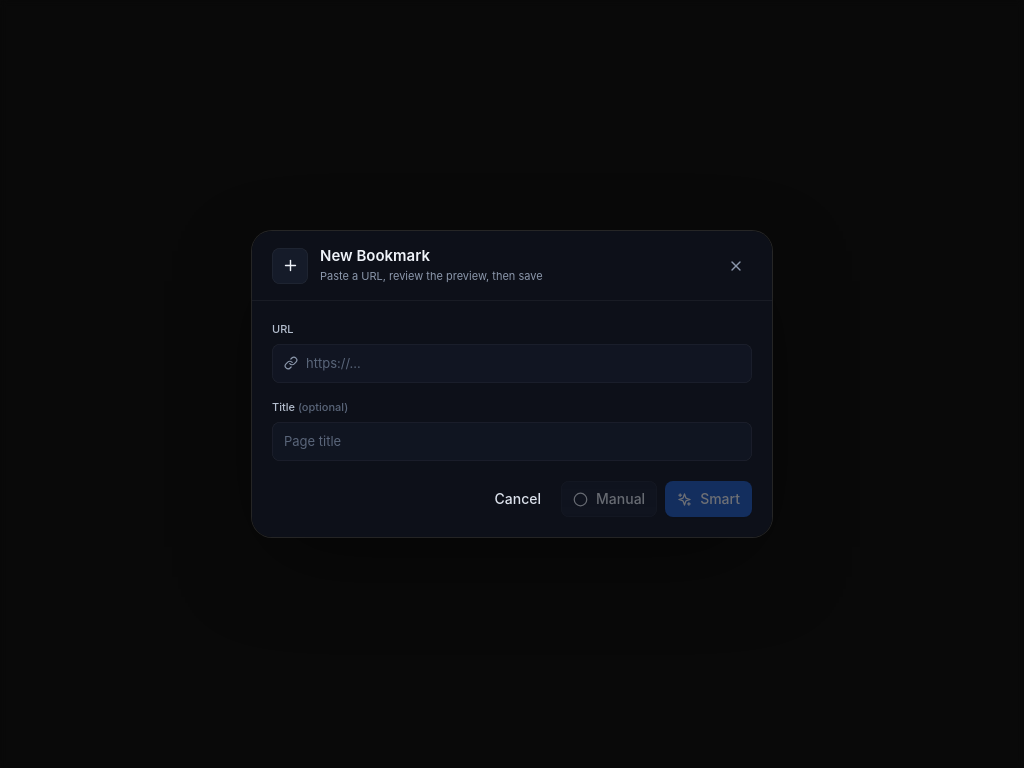
NewBookmarkDialog Manual 与 Smart 入口 › Manual 遇到重复 URL 时不调用元数据或 AI
Type "https://example.test/duplicate" into the field named "Bookmark URL" at (523, 363), box [306, 354, 740, 373]
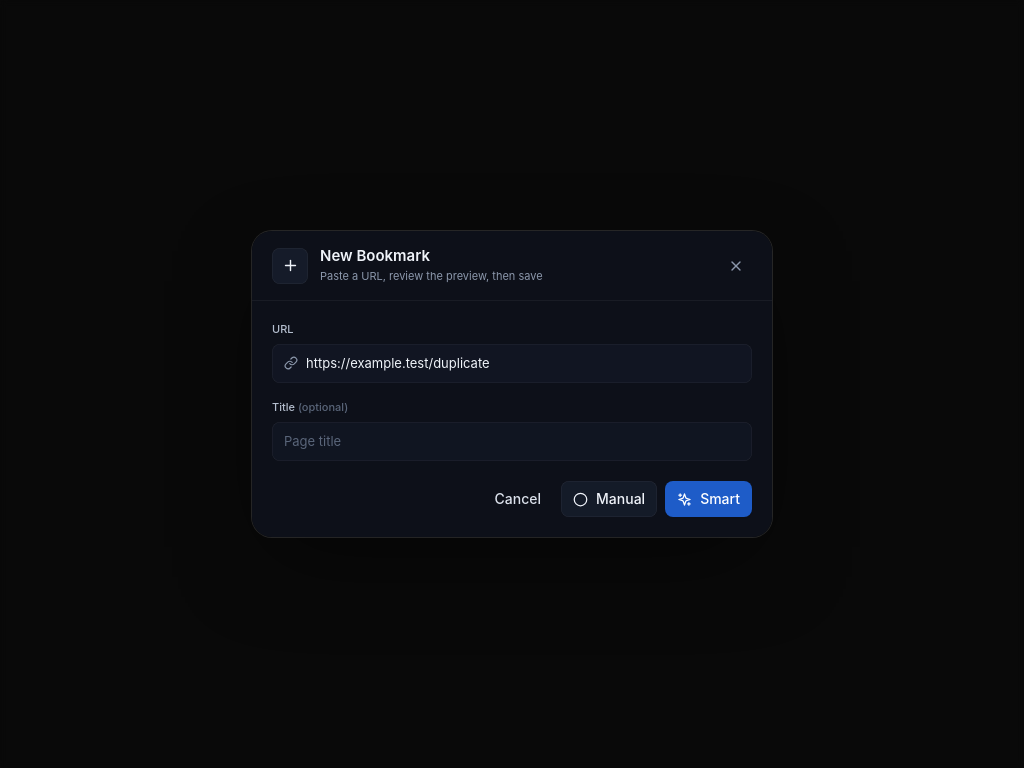
Click the button "Manual" at (609, 499), box [561, 481, 657, 517]
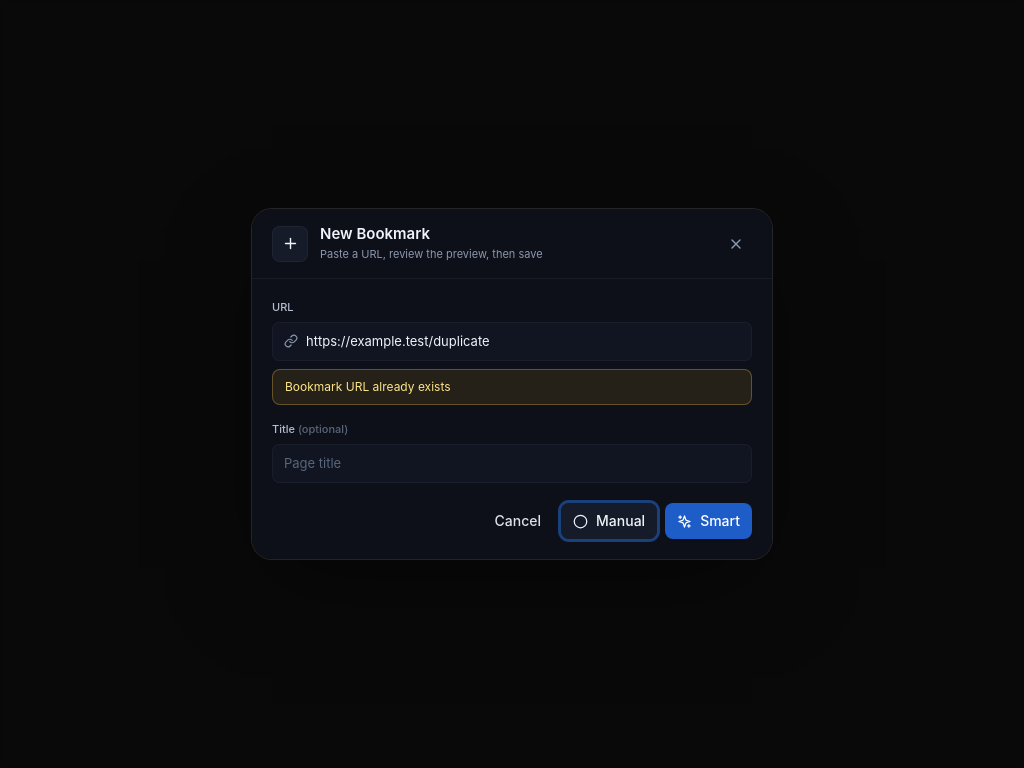
Now the message reads "Bookmark URL already exists", box [285, 379, 451, 394]
